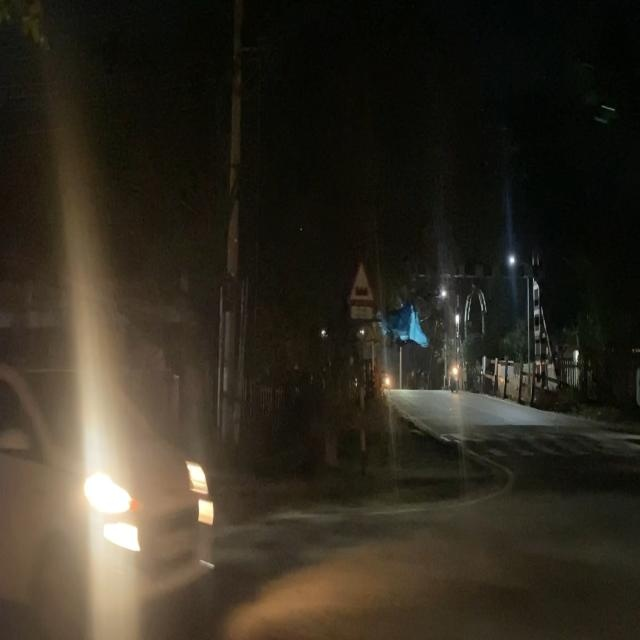bien_nguy_hiem: (345, 254, 376, 307)
